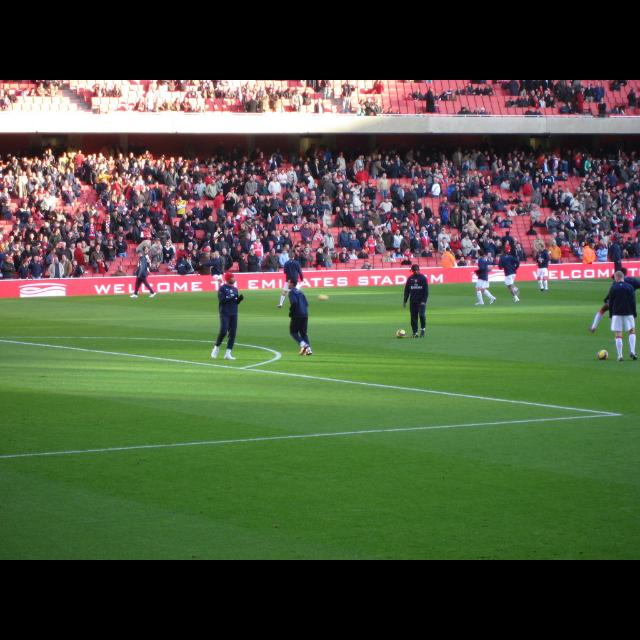Football: (596, 347, 608, 361), (394, 327, 404, 338)
